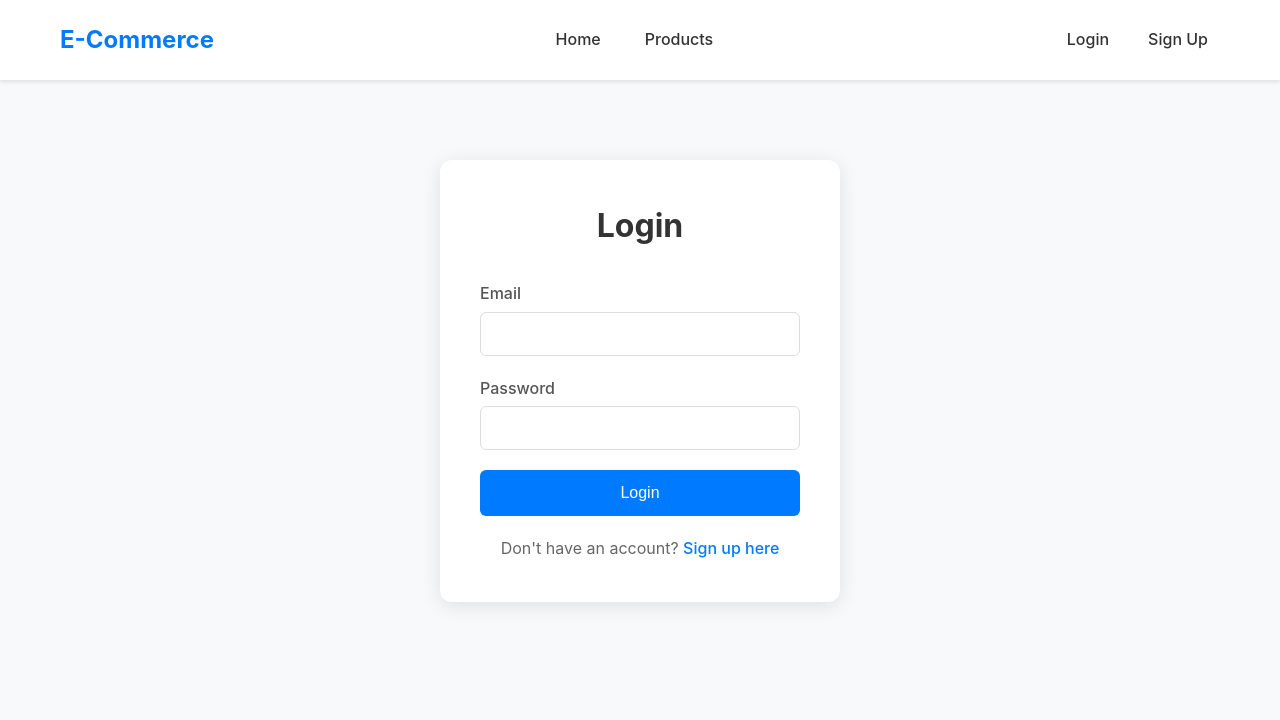
it: 🔐 Authentication & User Management › User Login › should reject invalid credentials
In the field with id "email": (640, 334) 480,312 -> 800,356, type "wrong@example.com"
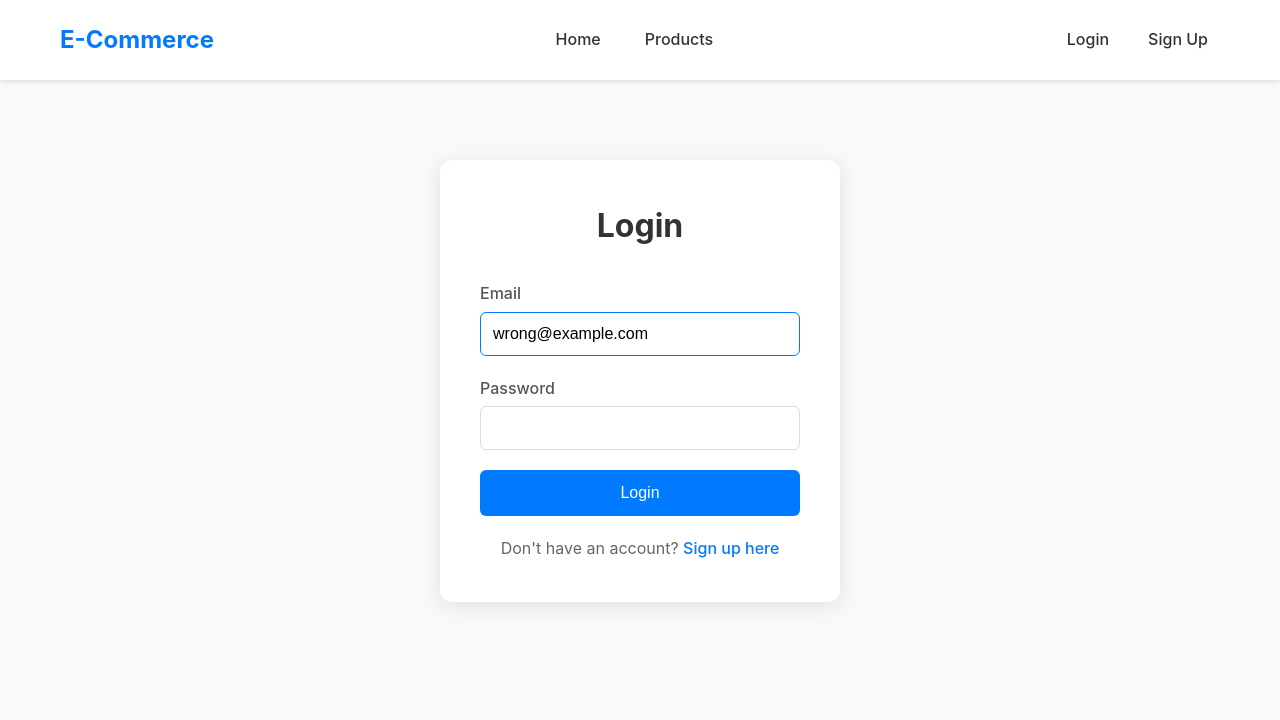
In the password field labelled "Password": (640, 428) 480,406 -> 800,450, type "wrongpassword"
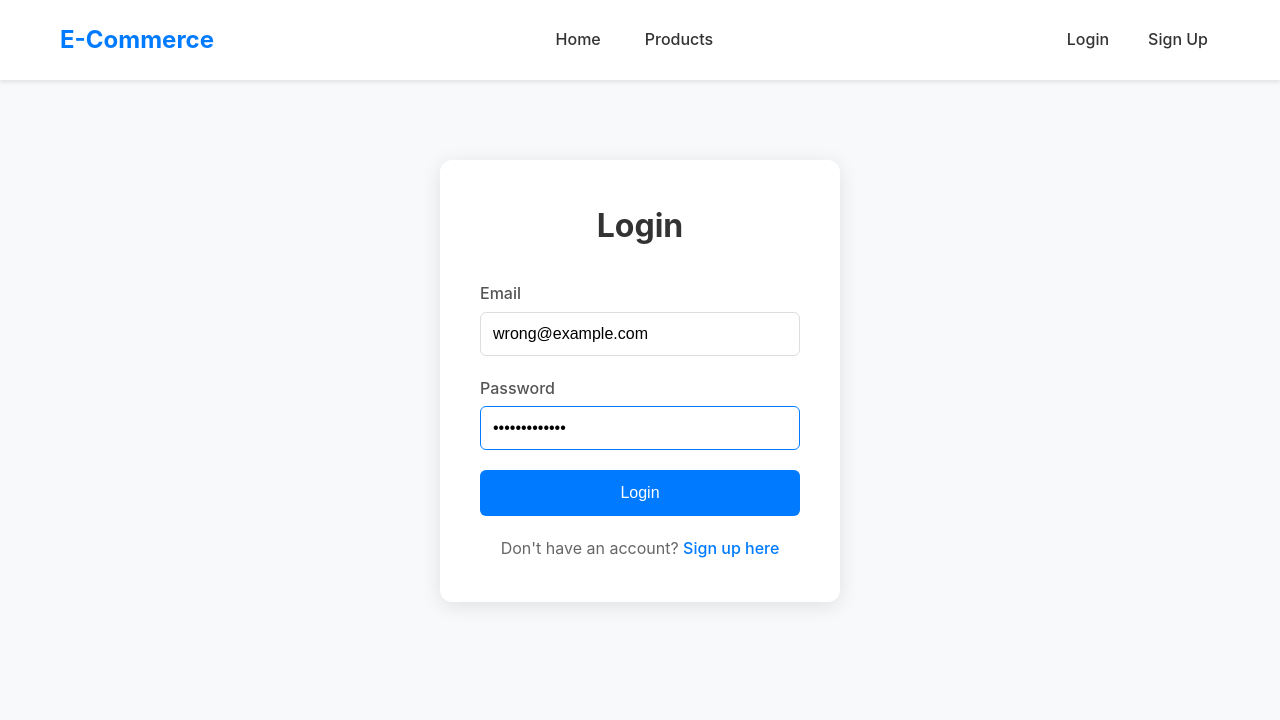
Click the submit button: (640, 493) 480,470 -> 800,516
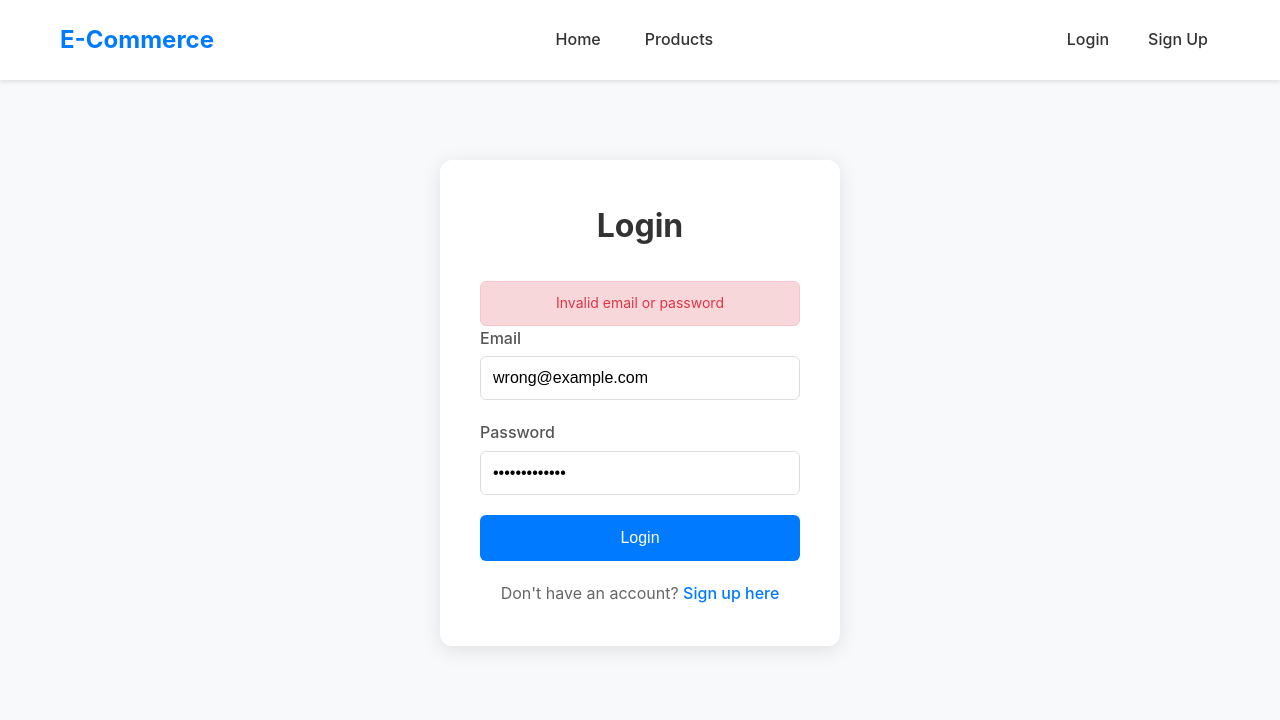
Now the text "Invalid email or password" is shown, box 480,281 -> 800,326
Now the text with test id "error-message" shows "Invalid", box 480,281 -> 800,325
